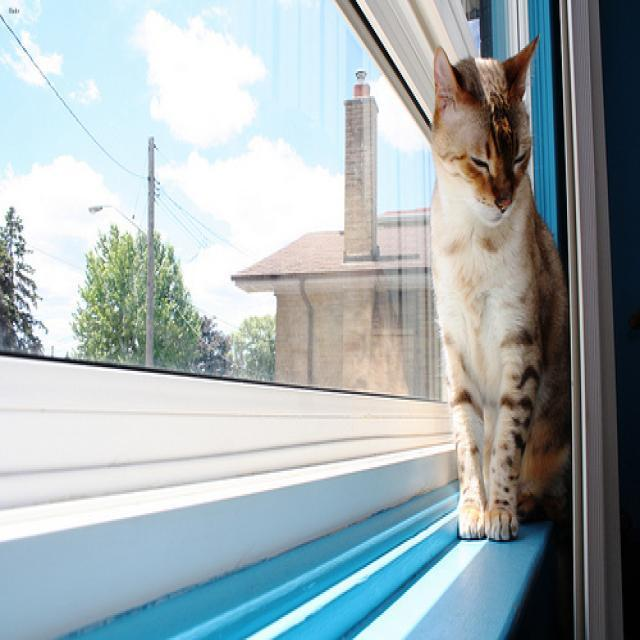Bengal: (424, 36, 545, 230)
